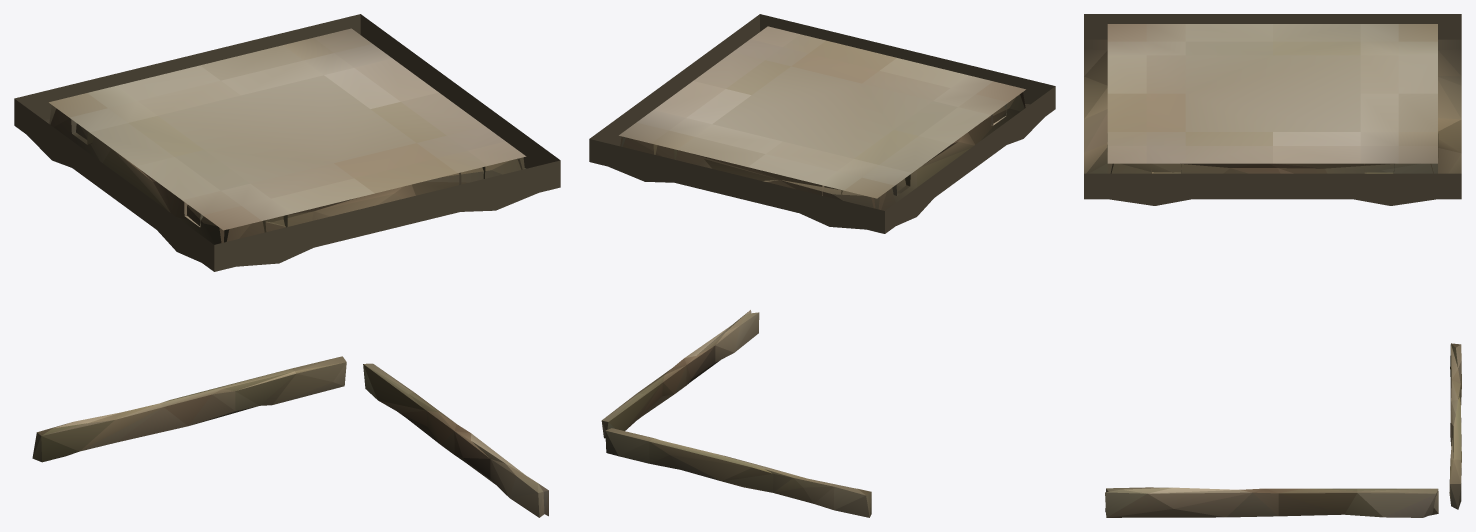
File: Base_UG-2Way.fbx
3 views of the same model, side by side, from view 1: azimuth 30°, elevation 25°; view 2: azimuth 150°, elevation 25°; view 3: azimuth 270°, elevation 25° (orthographic). The views are drawn at different scales.
Parts seen in each view (by area): view 1: Base_UG-2Way; view 2: Base_UG-2Way; view 3: Base_UG-2Way.
Boxes of the visible parts, box(x1,y1,x2,y2) form: Base_UG-2Way: box(14, 14, 560, 517); Base_UG-2Way: box(589, 14, 1055, 517); Base_UG-2Way: box(1084, 14, 1461, 517).
Size of the model in its own units: 400 by 404 by 400.
